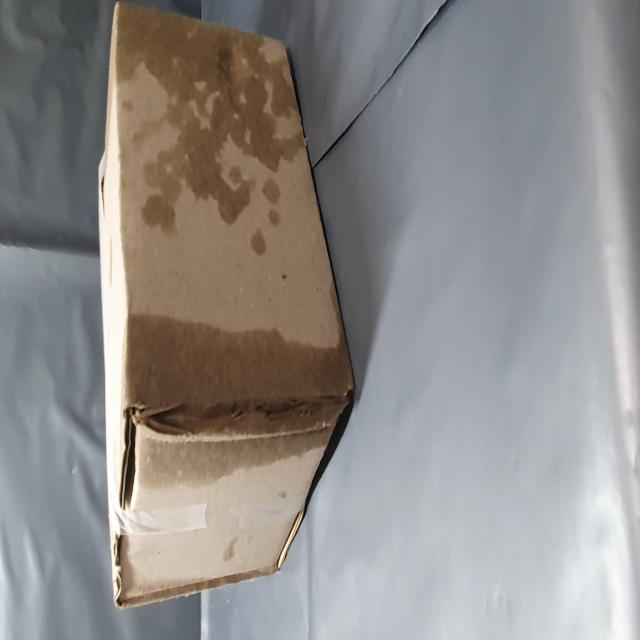wet: (209, 200, 359, 540), (78, 205, 184, 619)
